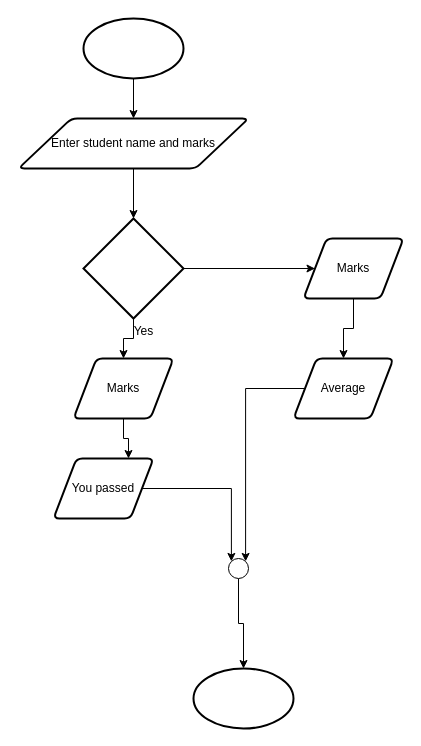
Image size: 421x746. Some labels were removed from this diagram. The shapes that lost their labels are listed below. From the top down, each one's centre as x and y in pixels, then its label:
At pixel 133 48: "START".
At pixel 133 268: "Is marks > 450?".
At pixel 243 698: "STOP".
